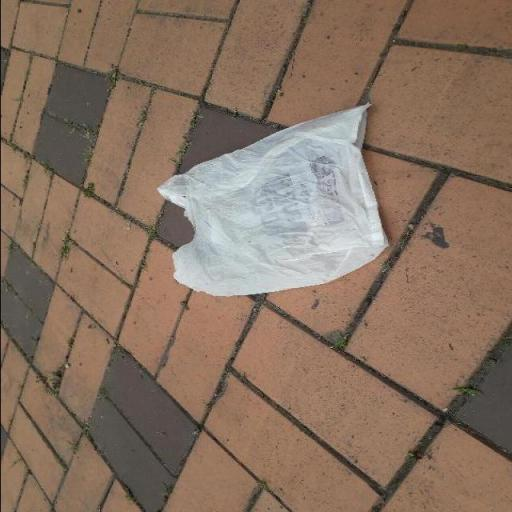plastic-bag: (154, 101, 392, 296)
